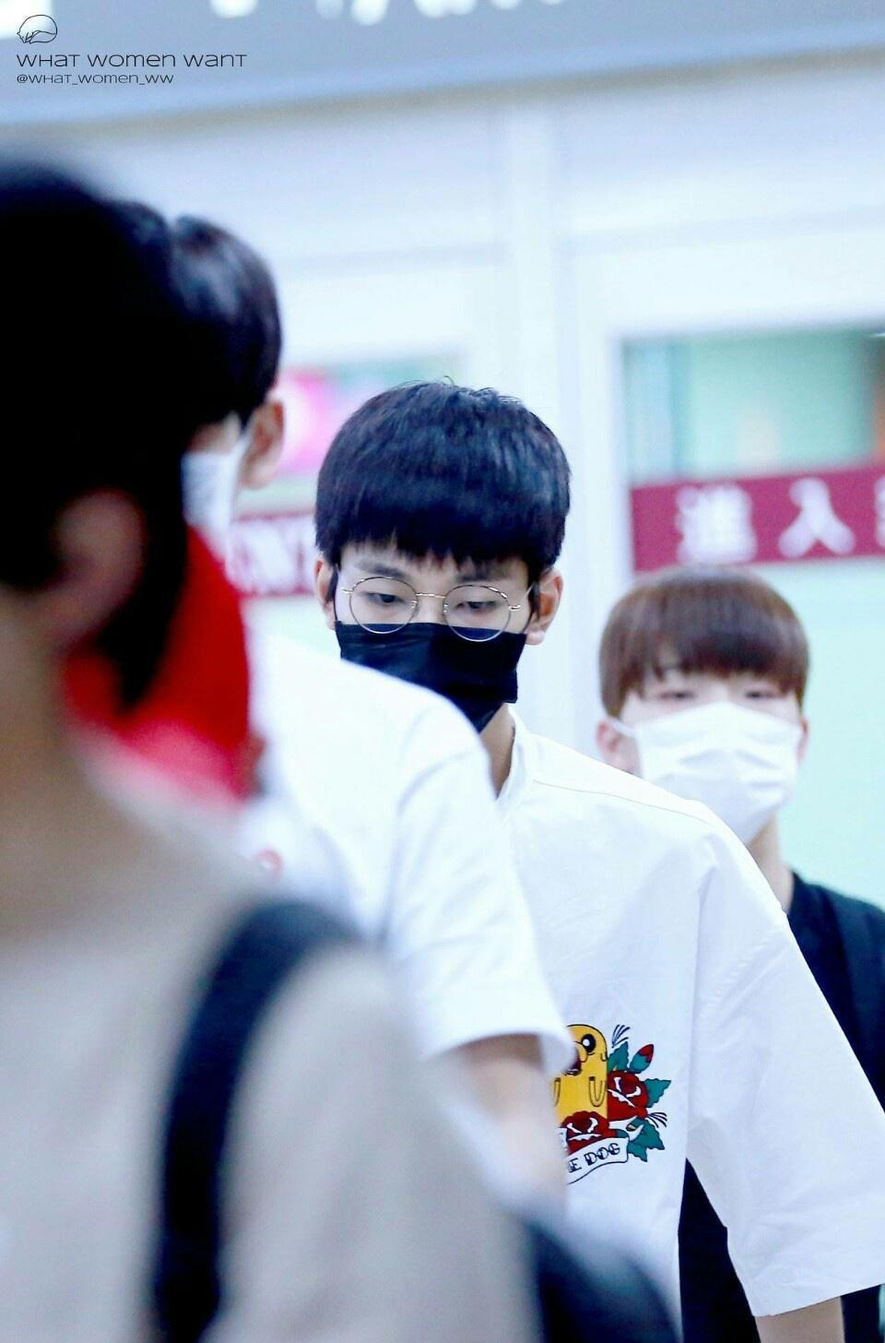OK: (339, 538, 545, 743), (631, 662, 801, 834)
